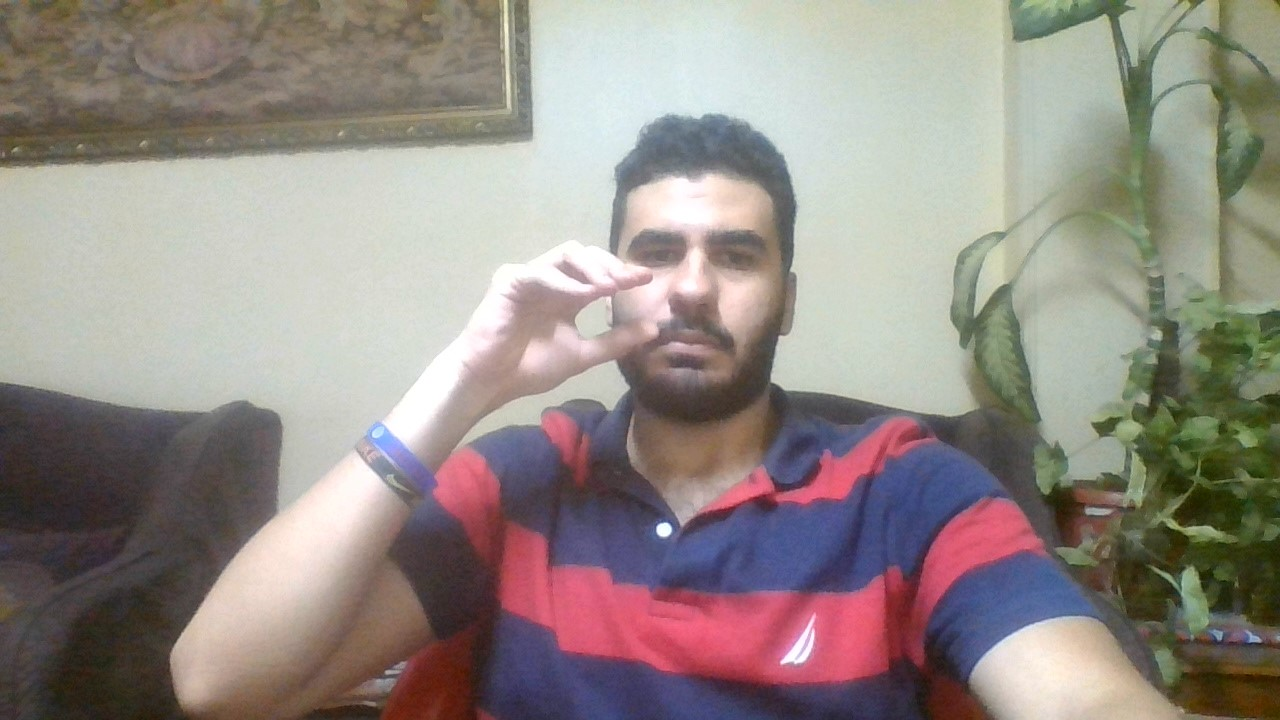drink: (467, 241, 656, 376)
